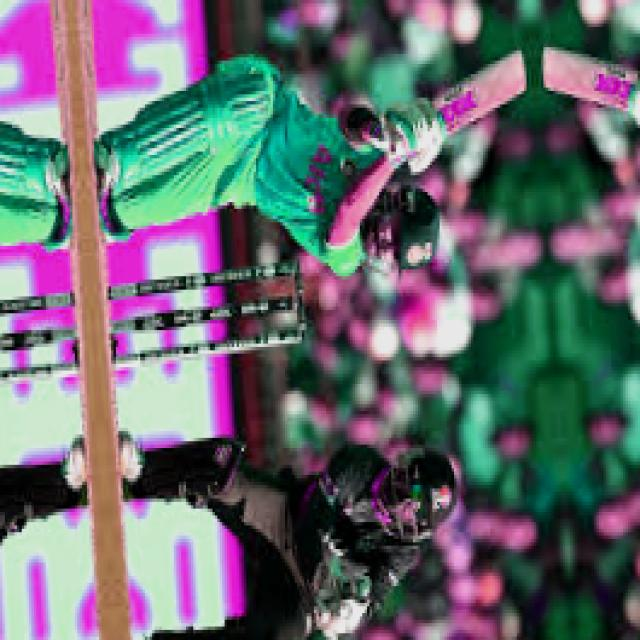toe: (500, 41, 536, 102)
